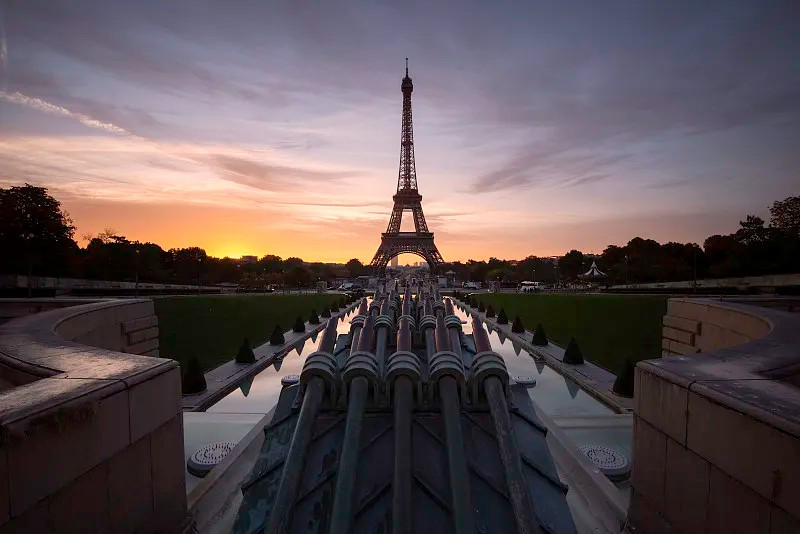Eiffel: (369, 58, 446, 274)
